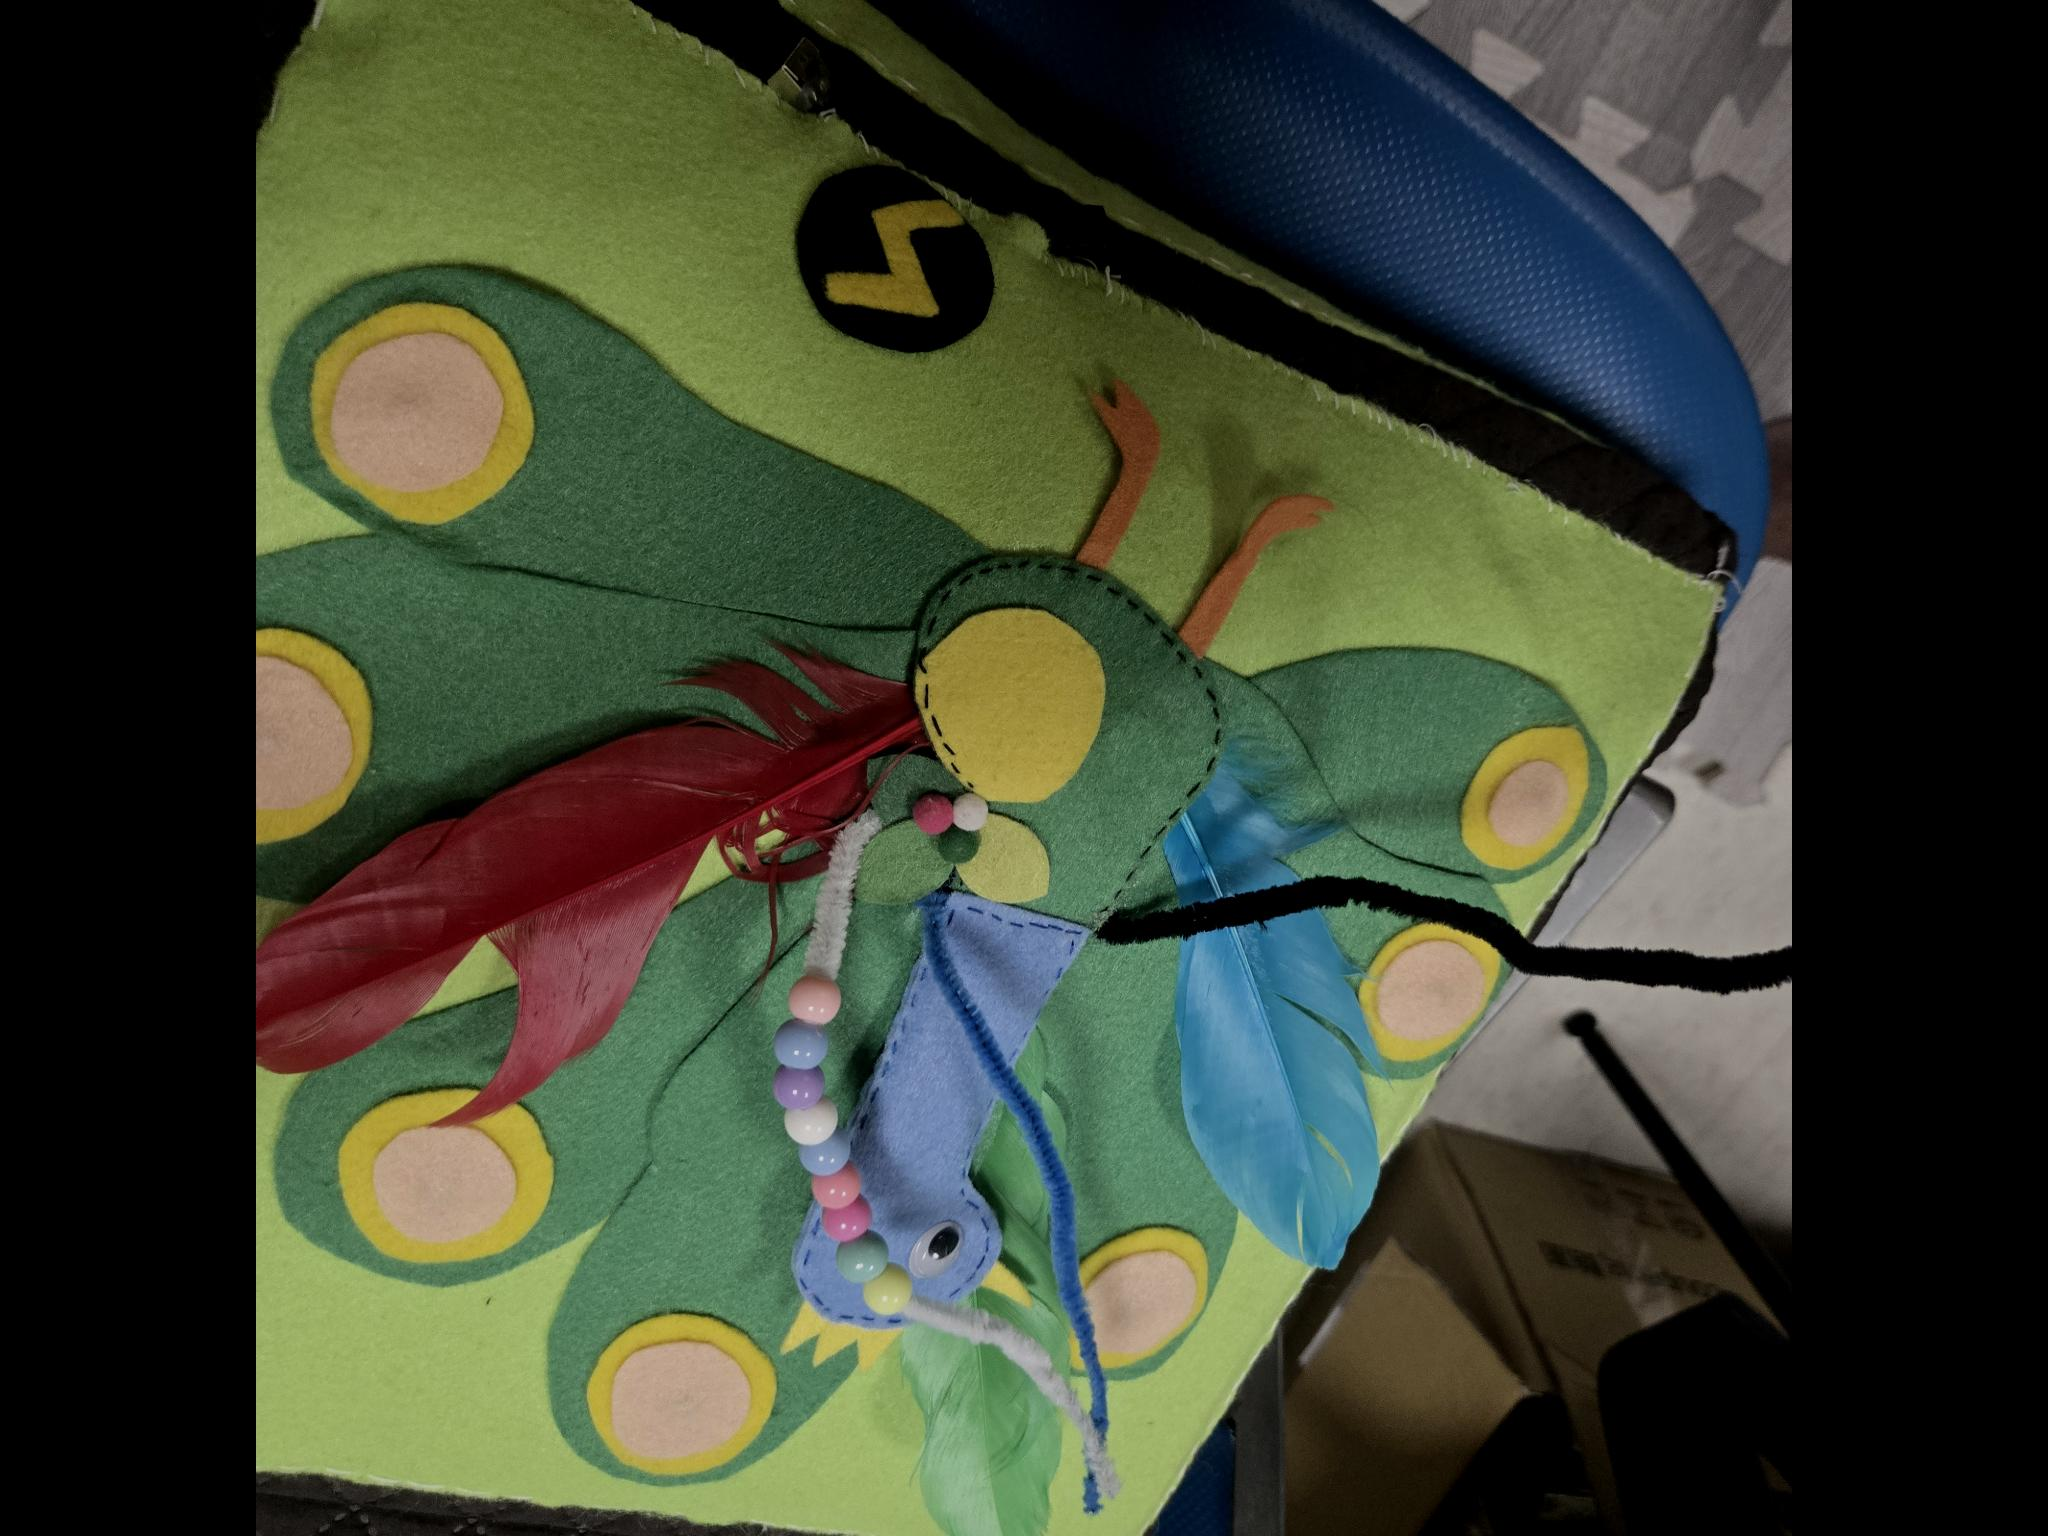bead: (856, 1268, 921, 1325), (782, 966, 847, 1020), (818, 1192, 876, 1249), (768, 1020, 837, 1066), (784, 1100, 842, 1154), (810, 1162, 864, 1213), (800, 1134, 855, 1184), (768, 1065, 822, 1113), (835, 1236, 890, 1281)
